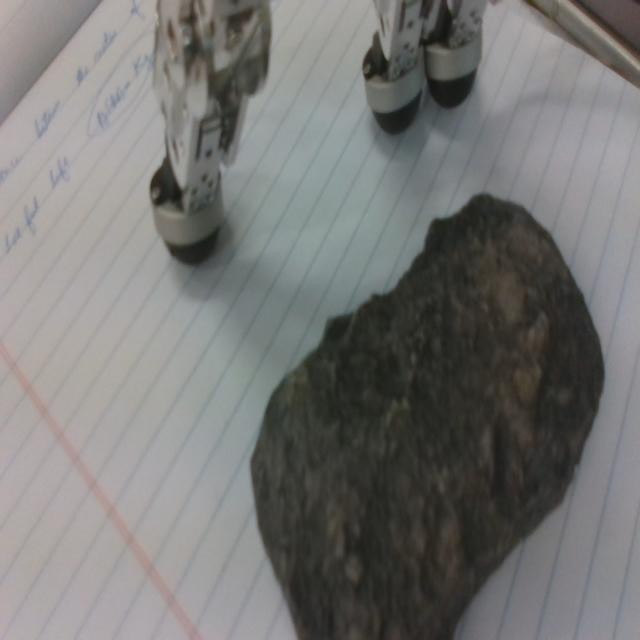stone: (250, 193, 605, 640)
